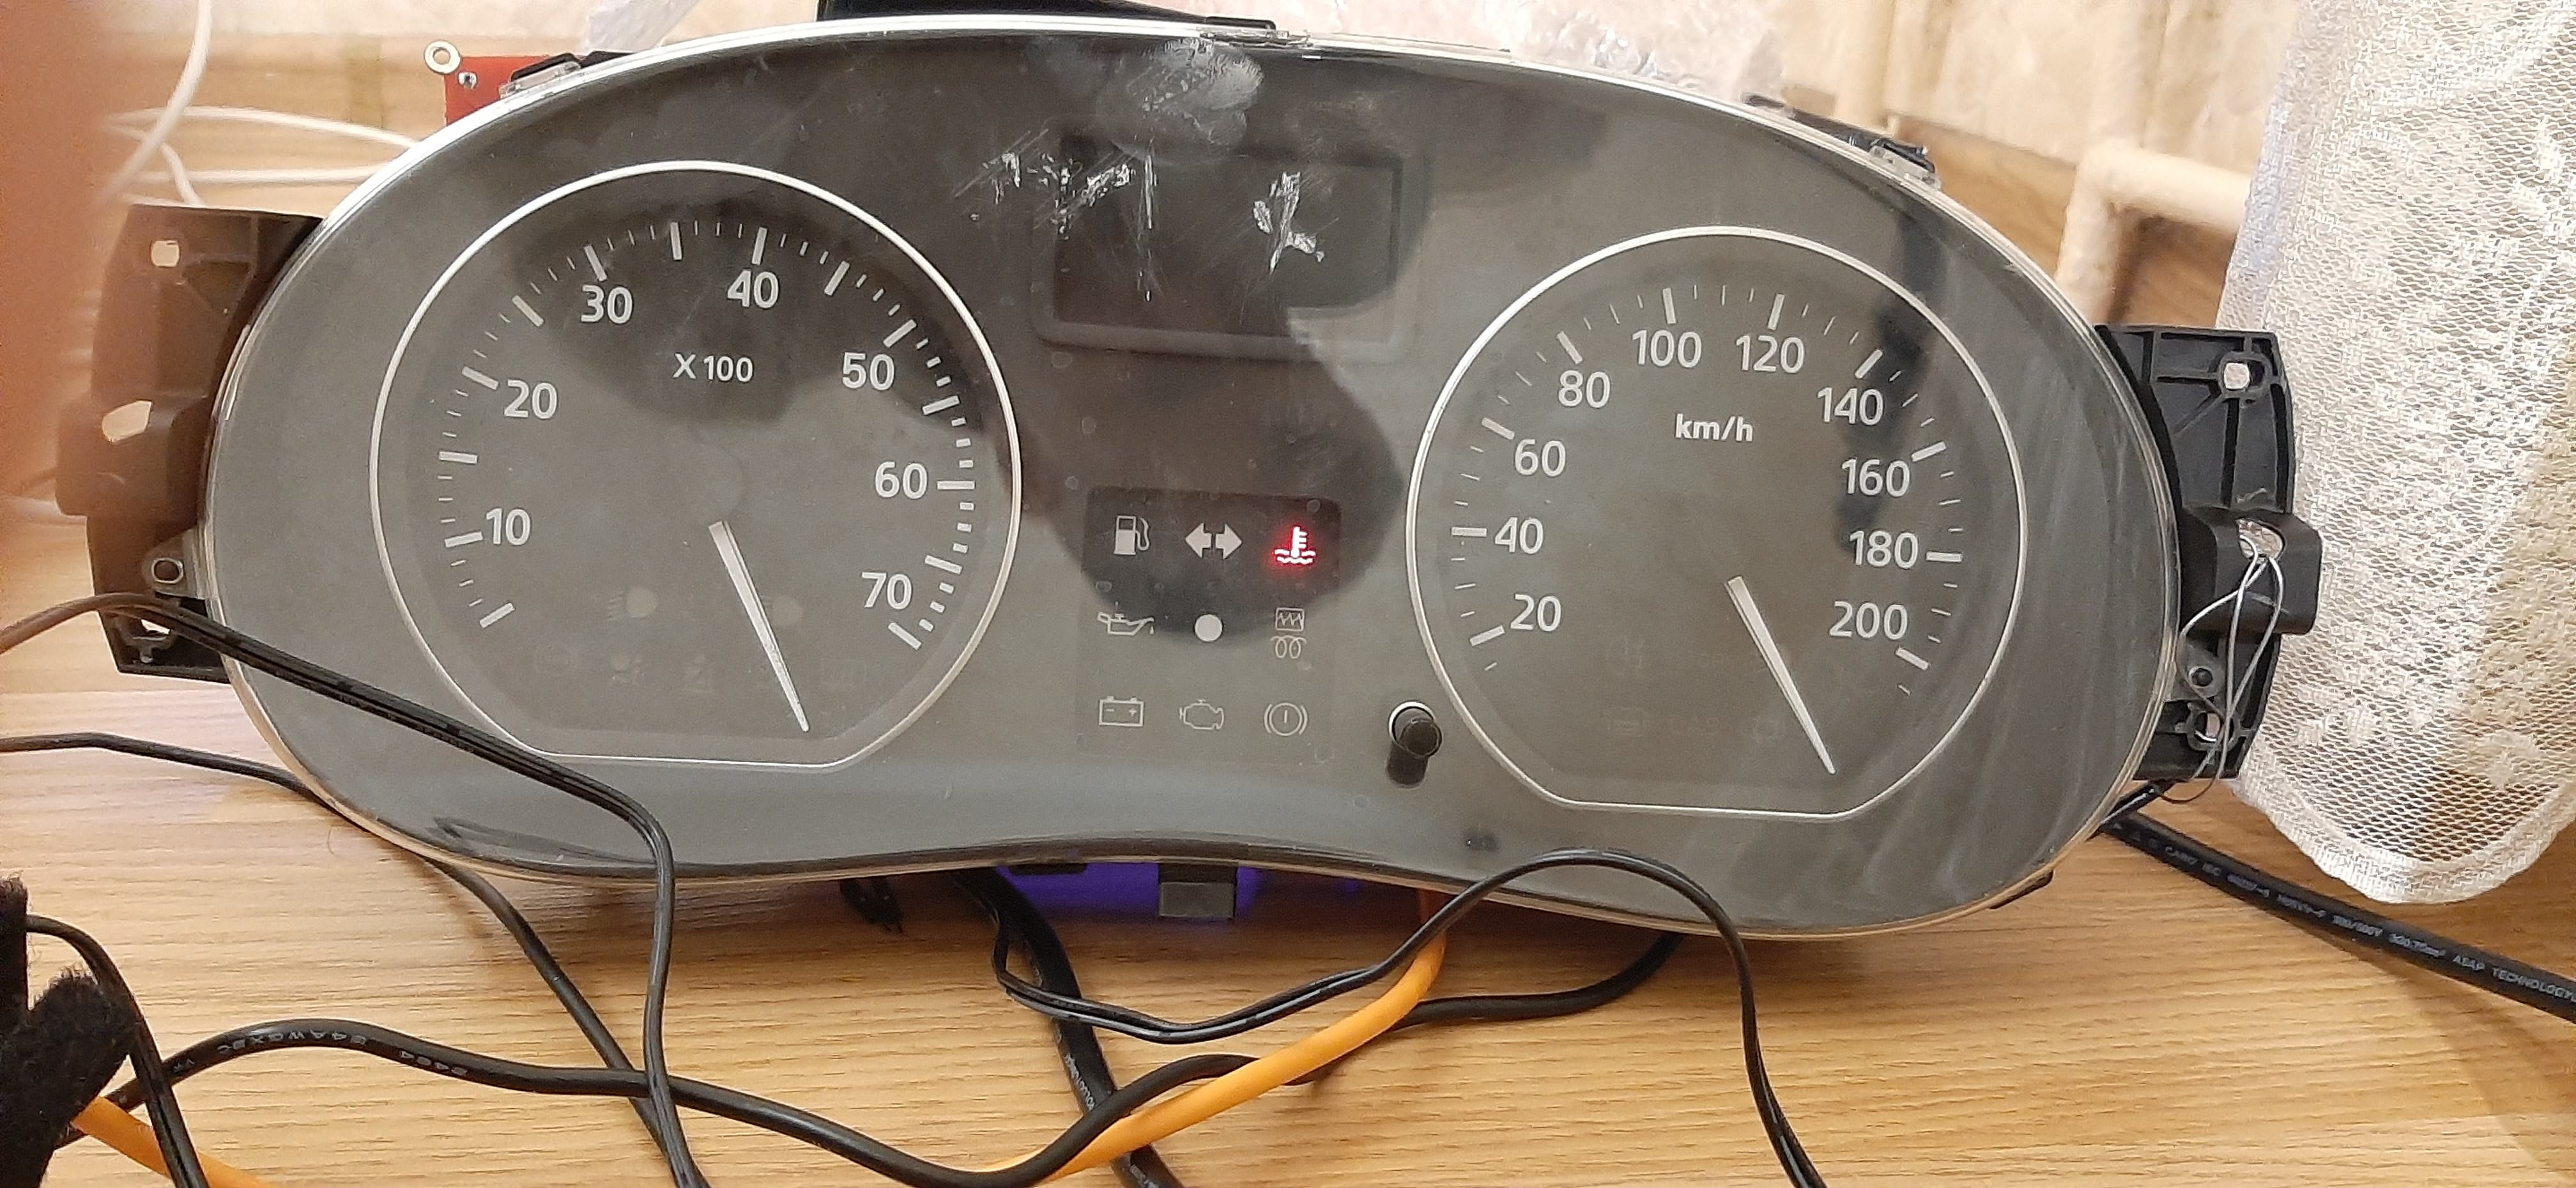Engine Overheating1: (1273, 524, 1318, 565)
